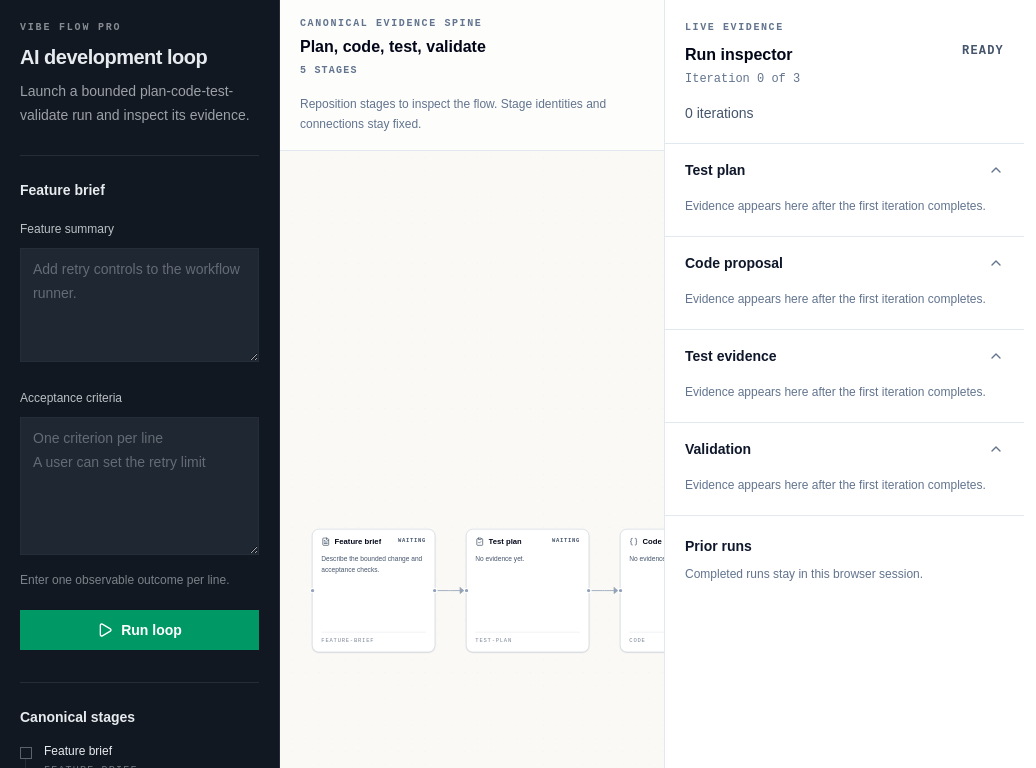
Test: DevelopmentLoopWorkspace › requires a feature brief before running
Expected: the element with test id "development-loop-canvas" is shown, [280, 151, 664, 767]
Expected: the text "5 stages" is shown, [300, 65, 358, 76]
Click the button "Run loop" at (140, 630), box [20, 610, 259, 650]
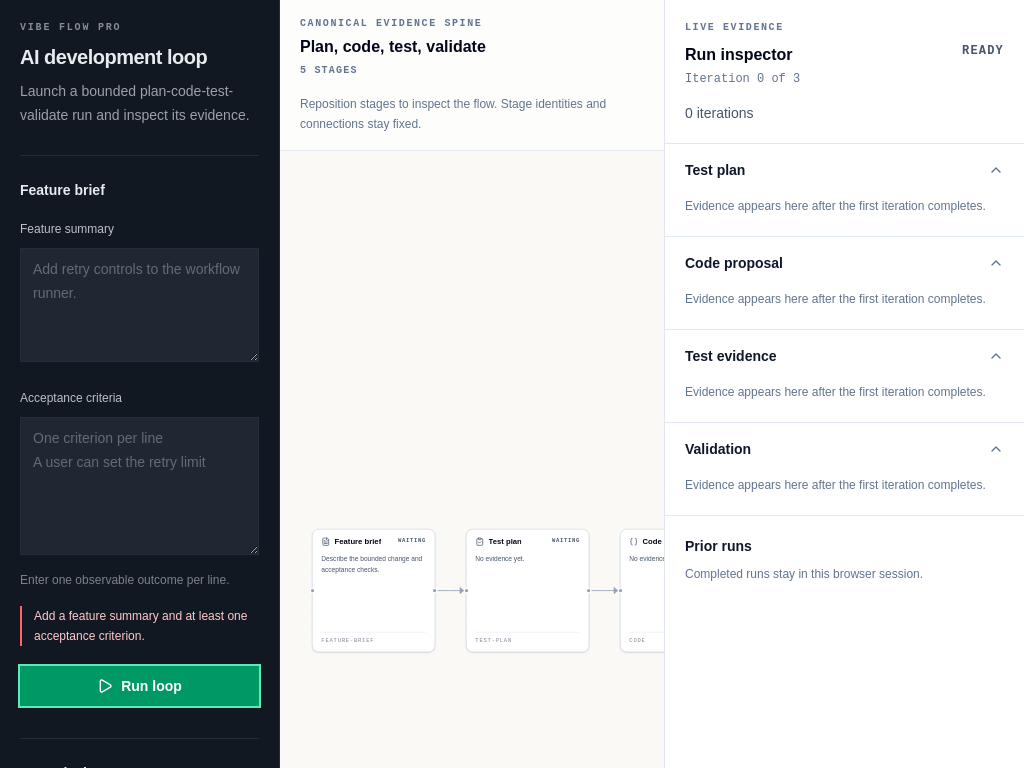
Result: the text "Add a feature summary and at least one acceptance criterion." is shown at [20, 606, 259, 646]
